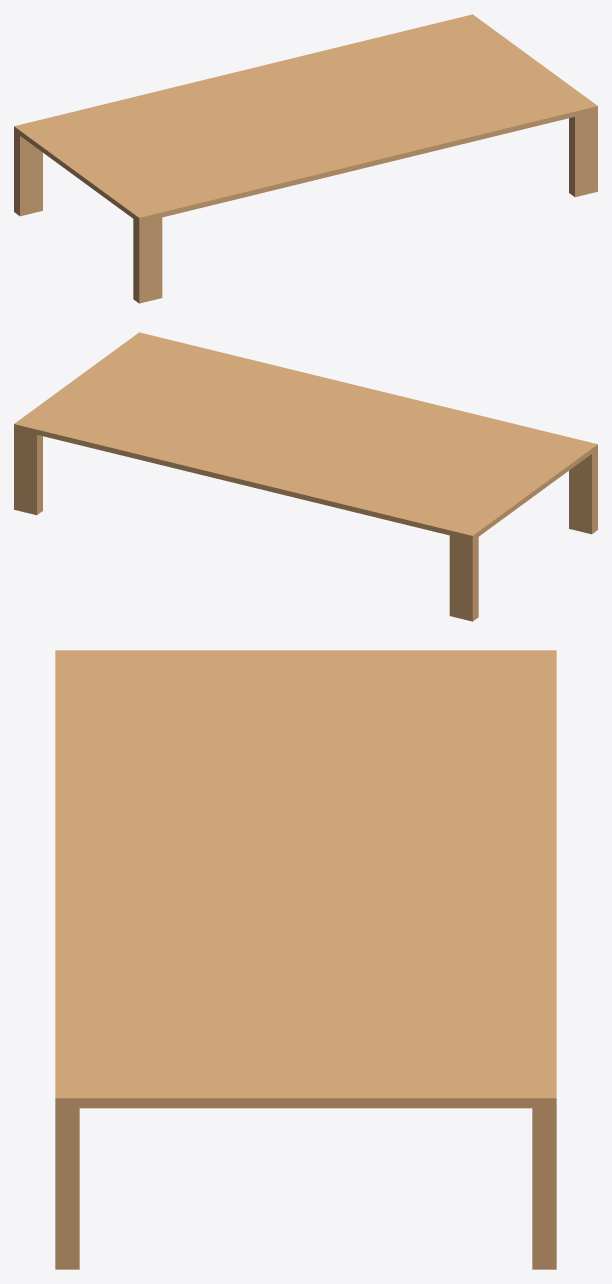
The model's file is MejaTV.fbx.
3 views of the same model, one above another, from view 1: azimuth 30°, elevation 25°; view 2: azimuth 150°, elevation 25°; view 3: azimuth 270°, elevation 25° (orthographic). The views are drawn at different scales.
Parts seen in each view (by area): view 1: MejaTV; view 2: MejaTV; view 3: MejaTV.
Part boxes in pixels (x1,y1,x2,y2): MejaTV: [14, 14, 597, 303]; MejaTV: [14, 332, 597, 621]; MejaTV: [55, 650, 556, 1269].
Size of the model in its own units: 2819 by 503 by 1333.
